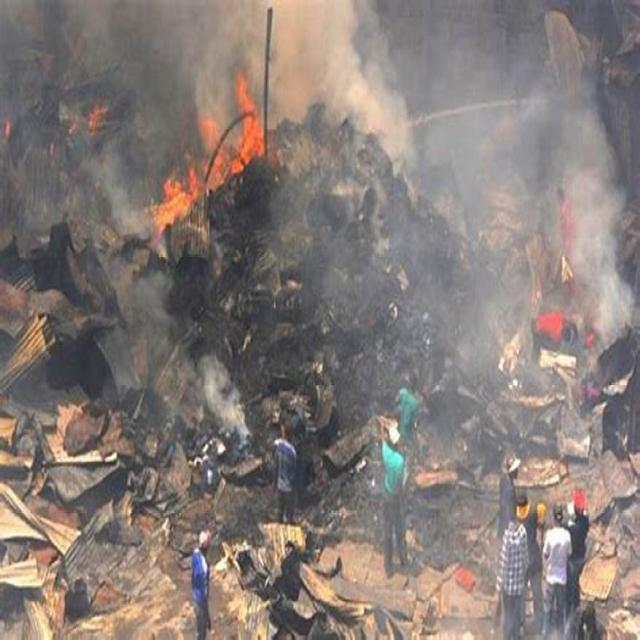smoke: (454, 111, 622, 337), (269, 5, 393, 111)
